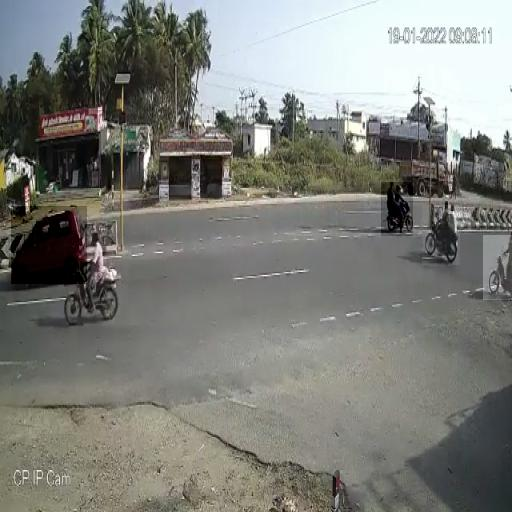小汽车: (11, 206, 87, 284)
自行车: (64, 225, 121, 326), (422, 205, 460, 265), (483, 235, 512, 300), (381, 182, 413, 236)
